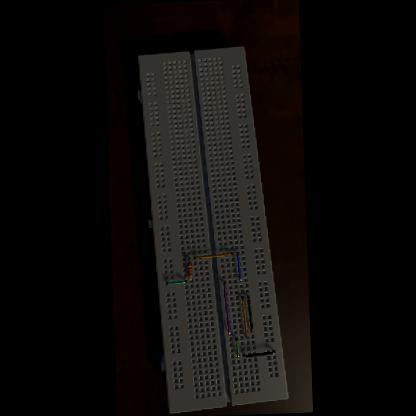breadboard: (136, 44, 289, 414)
resistor: (187, 260, 193, 276)
wire: (224, 280, 231, 333), (242, 295, 248, 337), (194, 252, 232, 258), (243, 349, 275, 356), (248, 295, 254, 330), (236, 251, 242, 280), (166, 278, 186, 284), (236, 336, 240, 356), (191, 276, 192, 279), (190, 256, 190, 260)
